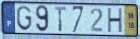2: (89, 8, 104, 33)
7: (72, 5, 86, 34)
9: (35, 5, 50, 34)
G: (16, 5, 33, 32)
H: (107, 7, 124, 34)
T: (53, 5, 68, 33)
